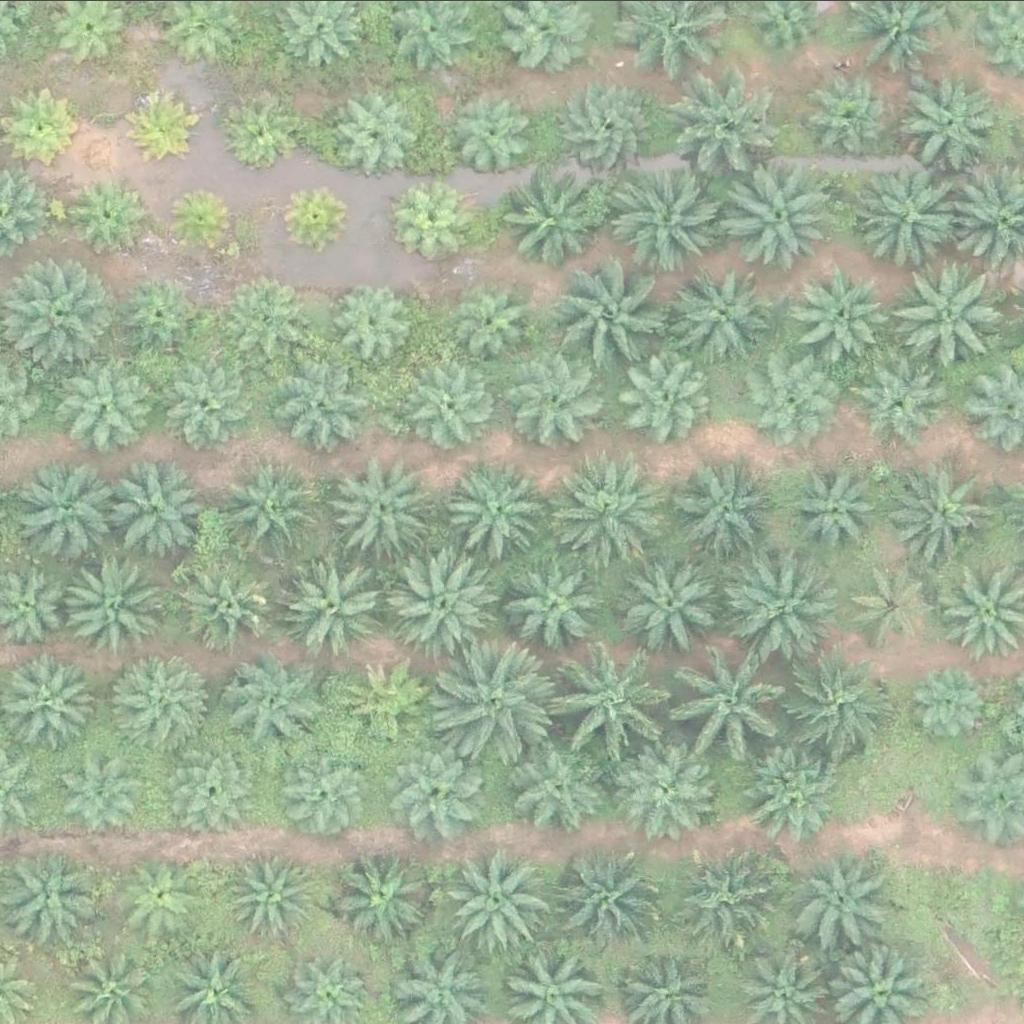Kelapa_Sawit: (719, 164, 833, 277), (850, 167, 963, 280), (449, 455, 562, 568), (558, 454, 671, 567), (615, 544, 728, 657), (441, 645, 554, 758), (615, 162, 729, 274), (892, 260, 1006, 372), (660, 68, 773, 180), (554, 264, 667, 376), (393, 544, 506, 656), (731, 547, 844, 659), (440, 851, 553, 963), (566, 644, 679, 756), (684, 644, 797, 756), (782, 649, 895, 761), (903, 73, 1004, 173), (503, 170, 604, 270), (671, 267, 772, 367), (508, 346, 609, 446), (328, 457, 429, 557), (901, 463, 1002, 563), (508, 550, 609, 650), (618, 733, 719, 833), (737, 746, 838, 846), (682, 850, 783, 950), (20, 461, 121, 561), (103, 456, 204, 556), (276, 556, 377, 656), (220, 457, 321, 557), (272, 350, 373, 450), (68, 554, 169, 654), (105, 650, 206, 750), (561, 78, 661, 178), (511, 729, 611, 829), (335, 845, 435, 945), (564, 848, 664, 948), (796, 848, 896, 948), (223, 649, 323, 749), (676, 457, 777, 556), (279, 753, 368, 841), (335, 93, 423, 181), (804, 267, 892, 355), (407, 367, 495, 455), (115, 271, 203, 359), (233, 271, 321, 359), (71, 361, 159, 449), (163, 360, 251, 448), (64, 750, 152, 838), (168, 746, 256, 834), (231, 844, 319, 932), (847, 557, 936, 644), (451, 92, 539, 179), (813, 70, 901, 157), (331, 276, 419, 363), (455, 279, 543, 366), (850, 365, 938, 452), (738, 356, 826, 443), (623, 353, 711, 440), (789, 462, 877, 549), (910, 658, 998, 745), (384, 747, 472, 834), (185, 564, 273, 651), (9, 655, 97, 742), (118, 851, 206, 938), (345, 656, 433, 743), (221, 99, 297, 174), (401, 182, 477, 257), (274, 177, 350, 252), (125, 84, 201, 159), (67, 174, 142, 249), (164, 182, 239, 257), (3, 84, 78, 159)
